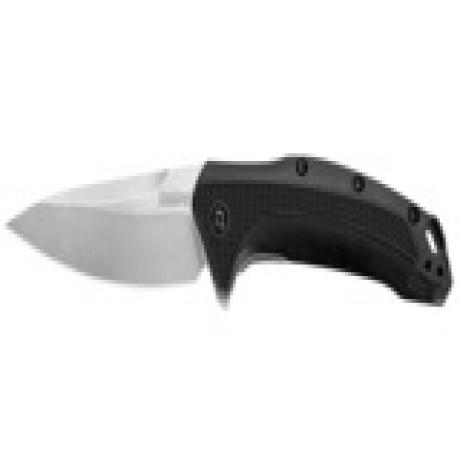weapon: (10, 154, 446, 305)
